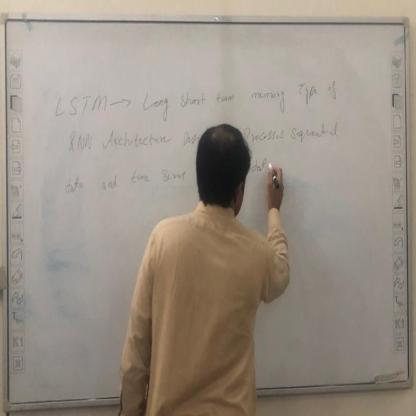Handwritten text: (47, 74, 351, 116), (49, 165, 190, 201), (63, 123, 178, 153)
Lecturer: (132, 115, 317, 416)
Whiteboard: (5, 19, 413, 409)
